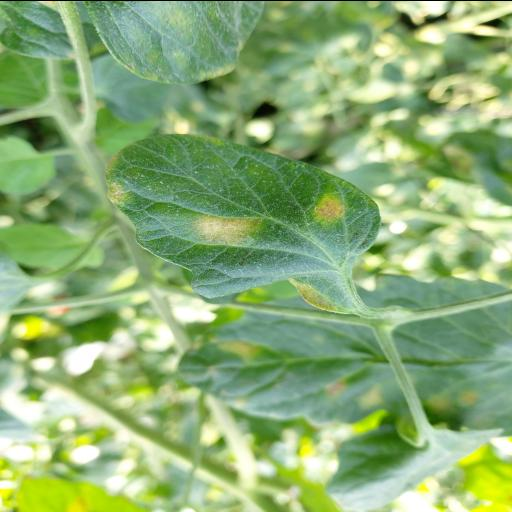Leaf Mold: (104, 132, 382, 314)
